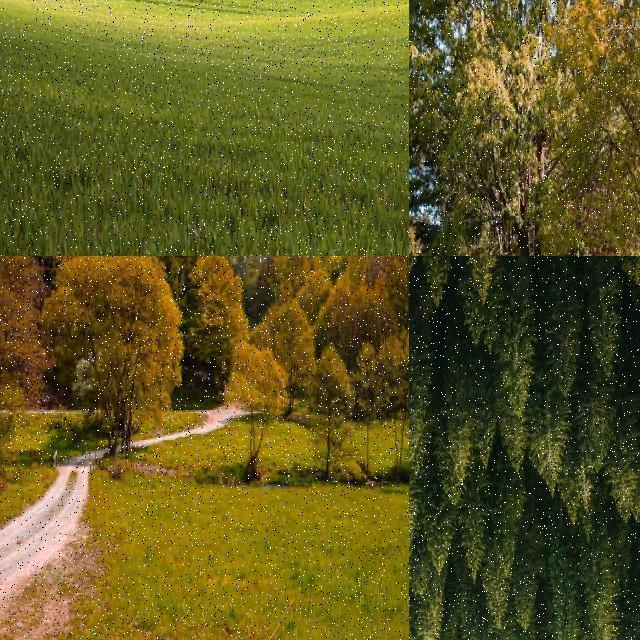tree: (410, 0, 622, 256), (40, 256, 180, 468), (409, 0, 478, 256), (0, 256, 54, 484), (409, 18, 455, 256), (410, 1, 442, 256), (184, 256, 242, 394), (306, 338, 358, 484), (1, 256, 32, 488), (247, 314, 313, 410), (495, 279, 537, 421), (349, 336, 385, 484), (542, 278, 584, 398), (229, 342, 287, 426), (254, 296, 310, 379), (531, 392, 569, 502), (486, 472, 524, 576), (579, 523, 612, 640), (25, 256, 77, 330), (544, 522, 576, 640), (575, 378, 613, 474), (466, 350, 496, 470), (386, 334, 409, 486), (444, 357, 468, 491), (424, 490, 461, 574), (612, 398, 640, 509), (498, 387, 532, 477), (588, 279, 618, 376), (409, 336, 429, 480), (460, 489, 488, 583), (510, 546, 538, 632), (376, 256, 408, 330), (409, 388, 431, 490), (409, 256, 429, 364), (408, 372, 428, 480), (410, 318, 430, 422), (409, 496, 429, 600), (459, 256, 501, 300), (410, 256, 430, 348), (408, 429, 424, 538), (560, 456, 584, 528), (484, 561, 508, 631), (409, 274, 426, 368), (426, 567, 454, 617), (462, 289, 486, 347), (426, 256, 454, 304), (409, 294, 425, 374), (410, 312, 422, 414), (607, 255, 640, 292), (408, 434, 424, 510), (409, 478, 423, 562), (409, 584, 426, 640), (409, 402, 425, 460), (409, 547, 423, 613), (409, 328, 419, 417), (409, 444, 421, 516), (410, 484, 422, 556), (414, 610, 442, 640), (408, 504, 419, 580), (409, 256, 426, 304), (409, 256, 429, 296), (462, 600, 482, 640), (409, 476, 423, 532), (0, 1, 20, 40), (409, 572, 421, 634), (409, 452, 421, 508), (432, 616, 460, 640), (274, 0, 306, 20), (553, 256, 573, 288), (409, 518, 421, 570), (409, 528, 418, 596), (409, 520, 419, 580), (409, 505, 421, 553), (408, 413, 419, 461), (409, 596, 421, 640), (409, 563, 418, 621), (409, 482, 419, 534), (409, 560, 419, 612), (409, 520, 417, 584), (409, 566, 418, 622), (409, 578, 419, 626), (409, 567, 418, 617), (409, 256, 423, 288), (408, 256, 424, 284), (409, 521, 418, 569), (409, 576, 418, 624), (409, 600, 419, 640), (408, 604, 419, 640), (409, 533, 417, 581), (410, 256, 422, 286), (408, 532, 416, 572), (409, 608, 419, 640), (409, 615, 418, 640), (408, 612, 416, 640), (408, 620, 419, 640), (409, 616, 418, 640), (409, 616, 417, 640)
